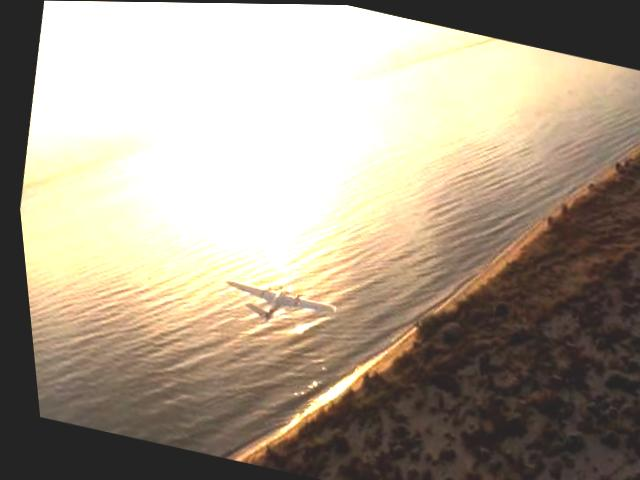uav: (212, 266, 339, 339)
